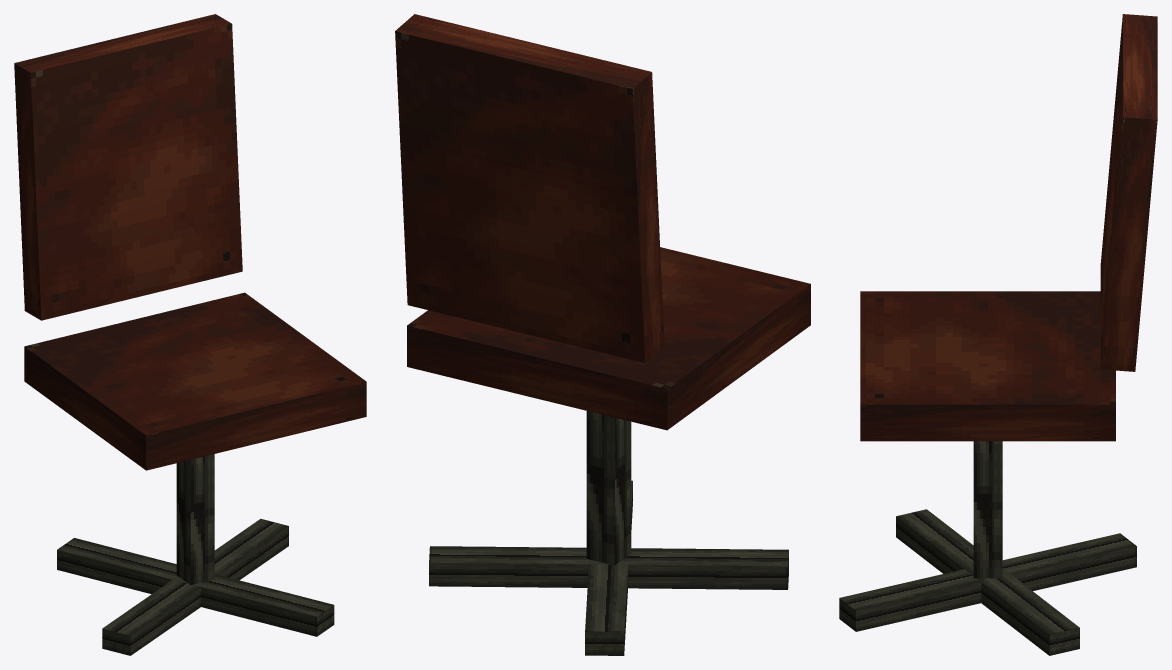
The model's file is prop_officechair-0.glb.
3 views of the same model, side by side, from view 1: azimuth 30°, elevation 25°; view 2: azimuth 150°, elevation 25°; view 3: azimuth 270°, elevation 25° (orthographic). The views are drawn at different scales.
Visible parts, largest first — view 1: prop_officechair-0; view 2: prop_officechair-0; view 3: prop_officechair-0.
Part boxes in pixels (x1=…): prop_officechair-0: x1=14, y1=14, x2=366, y2=655; prop_officechair-0: x1=395, y1=14, x2=810, y2=655; prop_officechair-0: x1=839, y1=14, x2=1157, y2=655.
Size of the model in its own units: 0.5114 by 1 by 0.5473.
2 materials, 2 textured.
